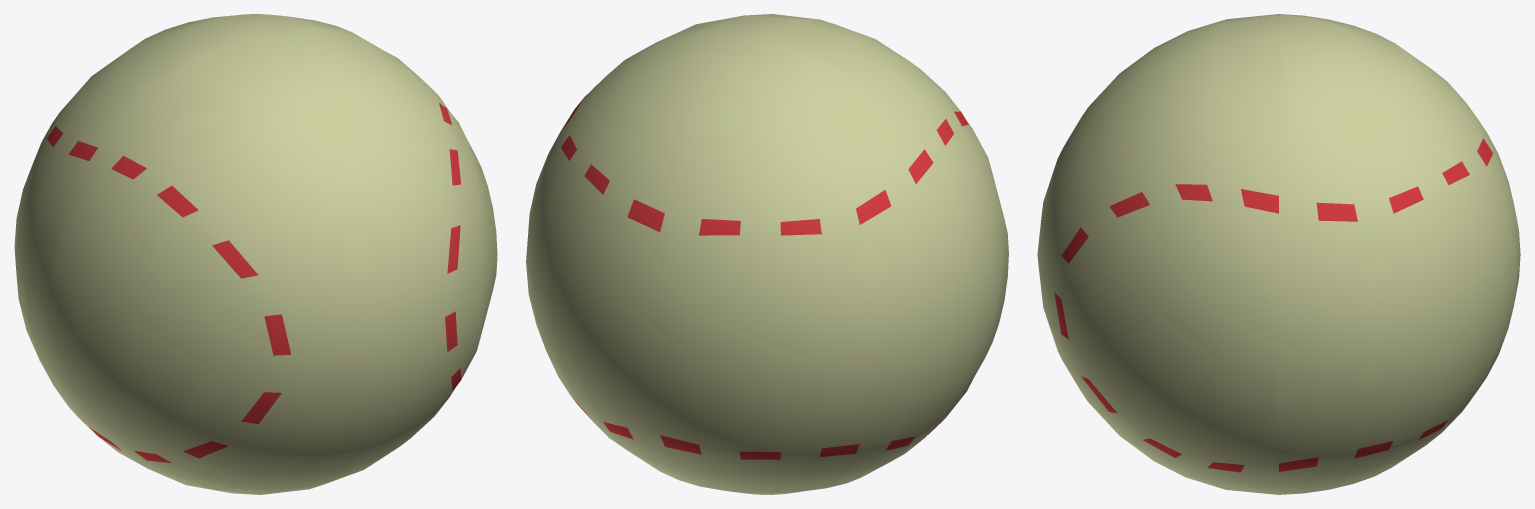
Rendered from Baseball_ball.fbx.
3 renders of one model, left to right at view 1: azimuth 30°, elevation 25°; view 2: azimuth 150°, elevation 25°; view 3: azimuth 270°, elevation 25°, orthographic.
Parts seen in each view (by area): view 1: Sphere.001; view 2: Sphere.001; view 3: Sphere.001.
Boxes of the visible parts, bbox=[...] form: Sphere.001: bbox=[14, 14, 497, 494]; Sphere.001: bbox=[526, 14, 1008, 494]; Sphere.001: bbox=[1037, 14, 1520, 494].
Size of the model in its own units: 144 by 144 by 144.
